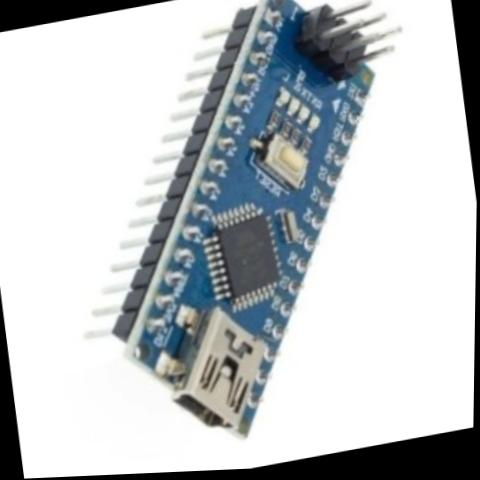Arduino-Nano: (29, 0, 465, 479)
